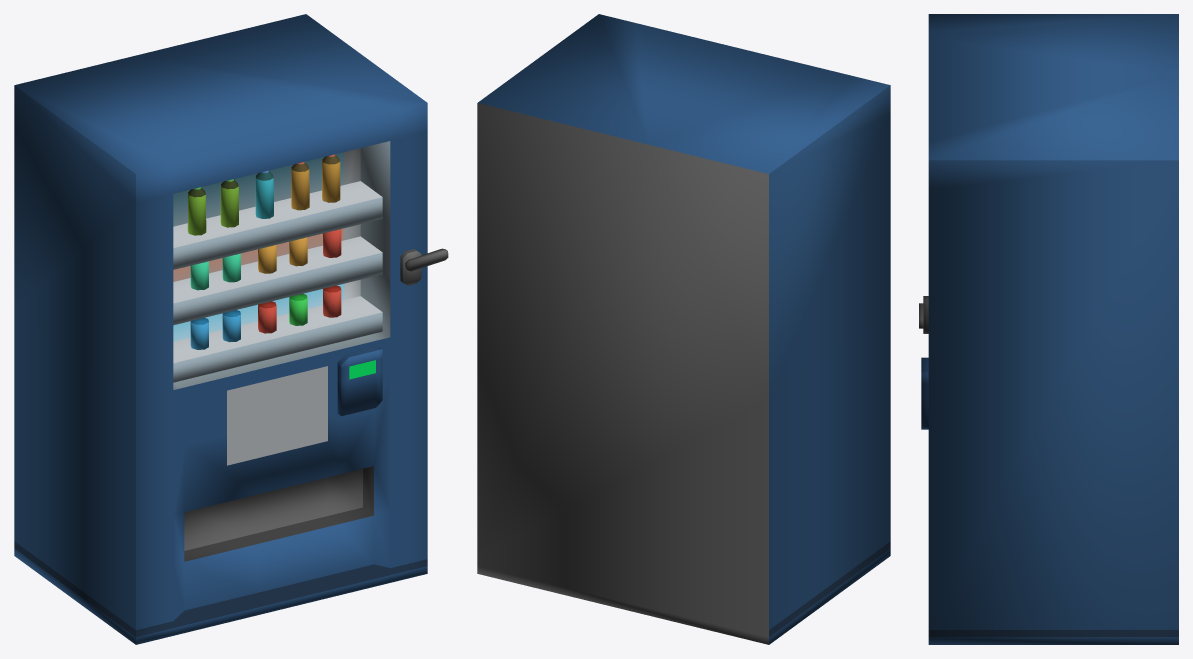
File: furnishings-outdoor-vendingmachine_v3.glb
The picture shows the model from 3 angles, left to right: view 1: azimuth 30°, elevation 25°; view 2: azimuth 150°, elevation 25°; view 3: azimuth 270°, elevation 25°; orthographic projection. The views are drawn at different scales.
Parts seen in each view (by area): view 1: VendingMachine_v3_color, VendingMachine_v3_base; view 2: VendingMachine_v3_color; view 3: VendingMachine_v3_color.
Part boxes in pixels (x1=…): VendingMachine_v3_color: x1=14, y1=14, x2=427, y2=644; VendingMachine_v3_base: x1=173, y1=141, x2=448, y2=465; VendingMachine_v3_color: x1=477, y1=14, x2=890, y2=644; VendingMachine_v3_color: x1=921, y1=14, x2=1178, y2=644.
Bounding box in the file's own units: 1.61 × 2.35 × 1.14.
